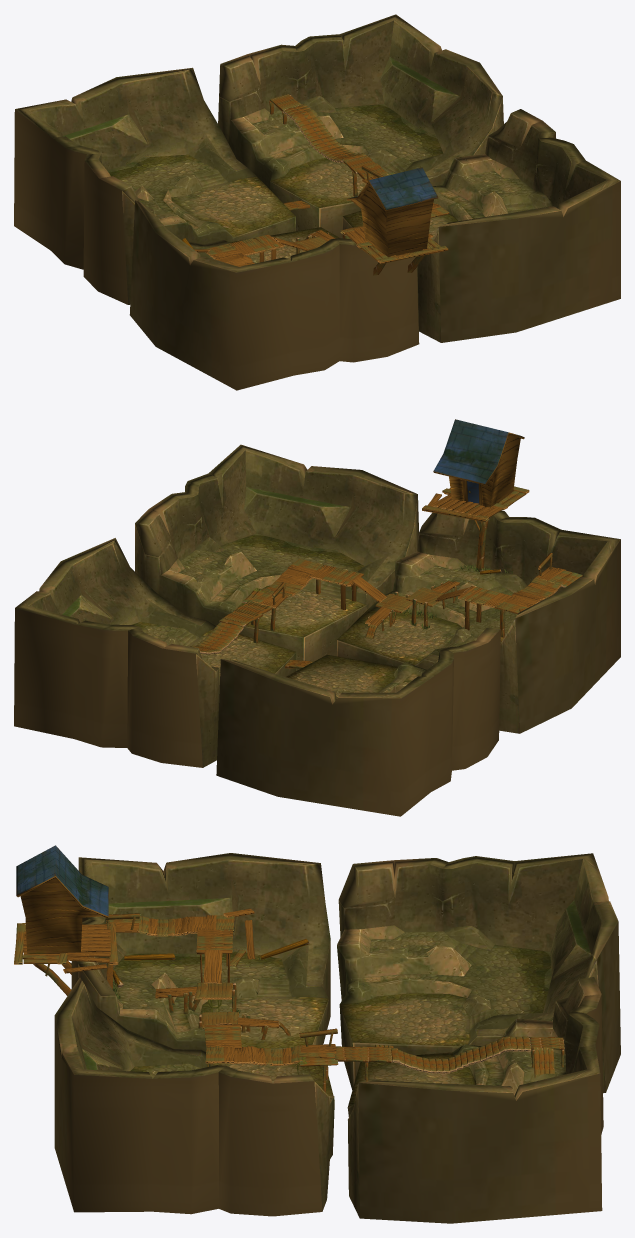
The model's file is MyGameStage2000.fbx.
The picture shows the model from 3 angles, top to bottom: view 1: azimuth 30°, elevation 25°; view 2: azimuth 150°, elevation 25°; view 3: azimuth 270°, elevation 25°; orthographic projection. The views are drawn at different scales.
Visible parts, largest first — view 1: Box014_Material #31_71; view 2: Box014_Material #31_71; view 3: Box014_Material #31_71.
Boxes of the visible parts, left/top/right/bottom form: Box014_Material #31_71: left=14, top=14, right=620, bottom=390; Box014_Material #31_71: left=14, top=419, right=620, bottom=816; Box014_Material #31_71: left=14, top=845, right=620, bottom=1223.
Bounding box in the file's own units: 371 × 160 × 400.
